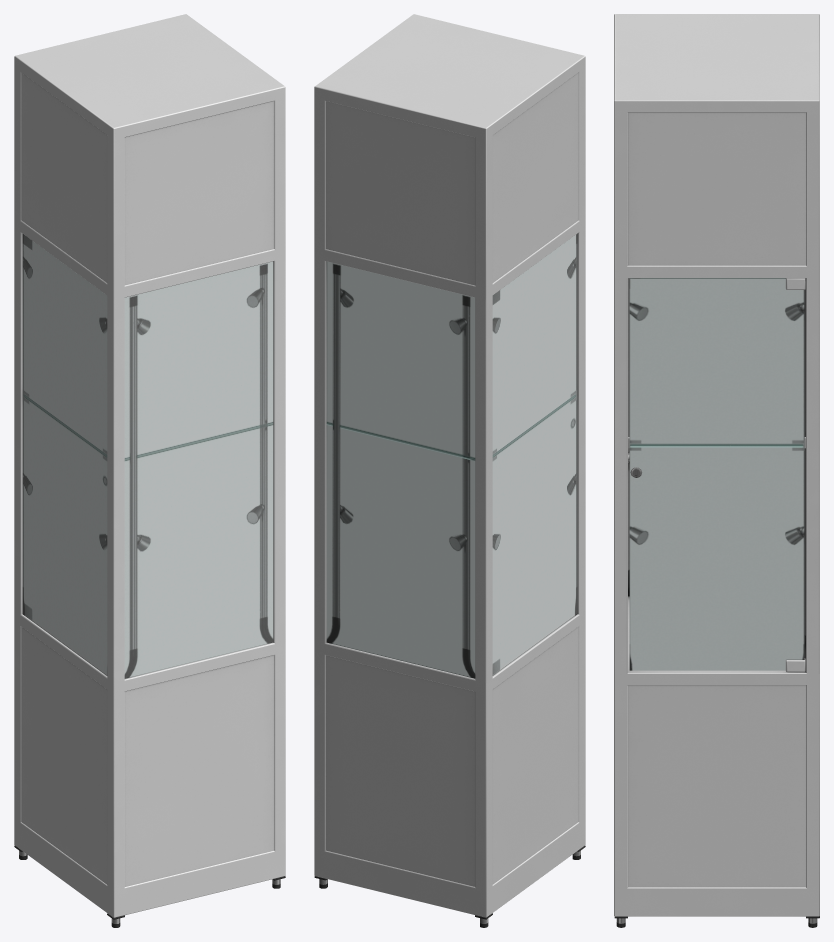
File: lazise.glb
The picture shows the model from 3 angles, left to right: view 1: azimuth 30°, elevation 25°; view 2: azimuth 150°, elevation 25°; view 3: azimuth 270°, elevation 25°; orthographic projection. The views are drawn at different scales.
Parts seen in each view (by area): view 1: lazise-white_body, lazise-white_glass; view 2: lazise-white_body, lazise-white_glass; view 3: lazise-white_body, lazise-white_glass.
Boxes of the visible parts, x1=… form: lazise-white_body: x1=14, y1=14, x2=285, y2=927; lazise-white_glass: x1=22, y1=234, x2=273, y2=678; lazise-white_body: x1=314, y1=14, x2=585, y2=927; lazise-white_glass: x1=326, y1=234, x2=577, y2=678; lazise-white_body: x1=614, y1=14, x2=819, y2=927; lazise-white_glass: x1=629, y1=278, x2=804, y2=670.
Size of the model in its own units: 0.4504 by 2 by 0.4504.
2 materials, 2 textured.
